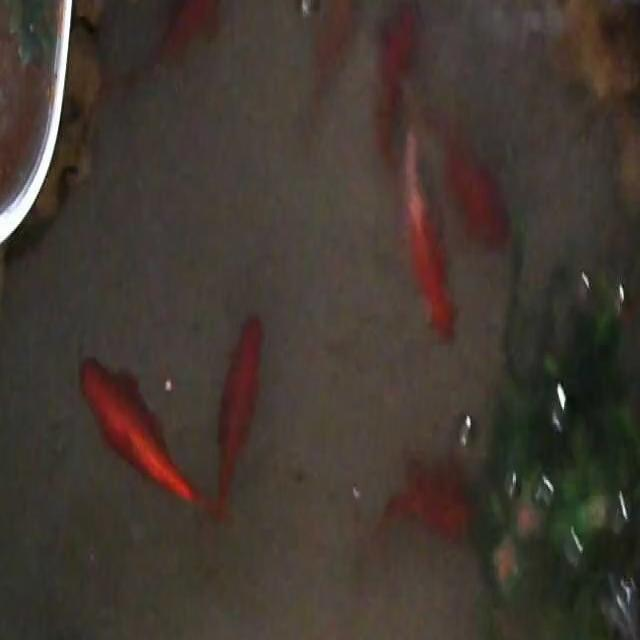fish: (73, 346, 202, 529), (98, 0, 232, 107), (400, 112, 458, 341), (366, 453, 478, 558), (213, 309, 265, 522), (438, 118, 513, 259), (373, 0, 417, 172), (308, 0, 356, 117)
